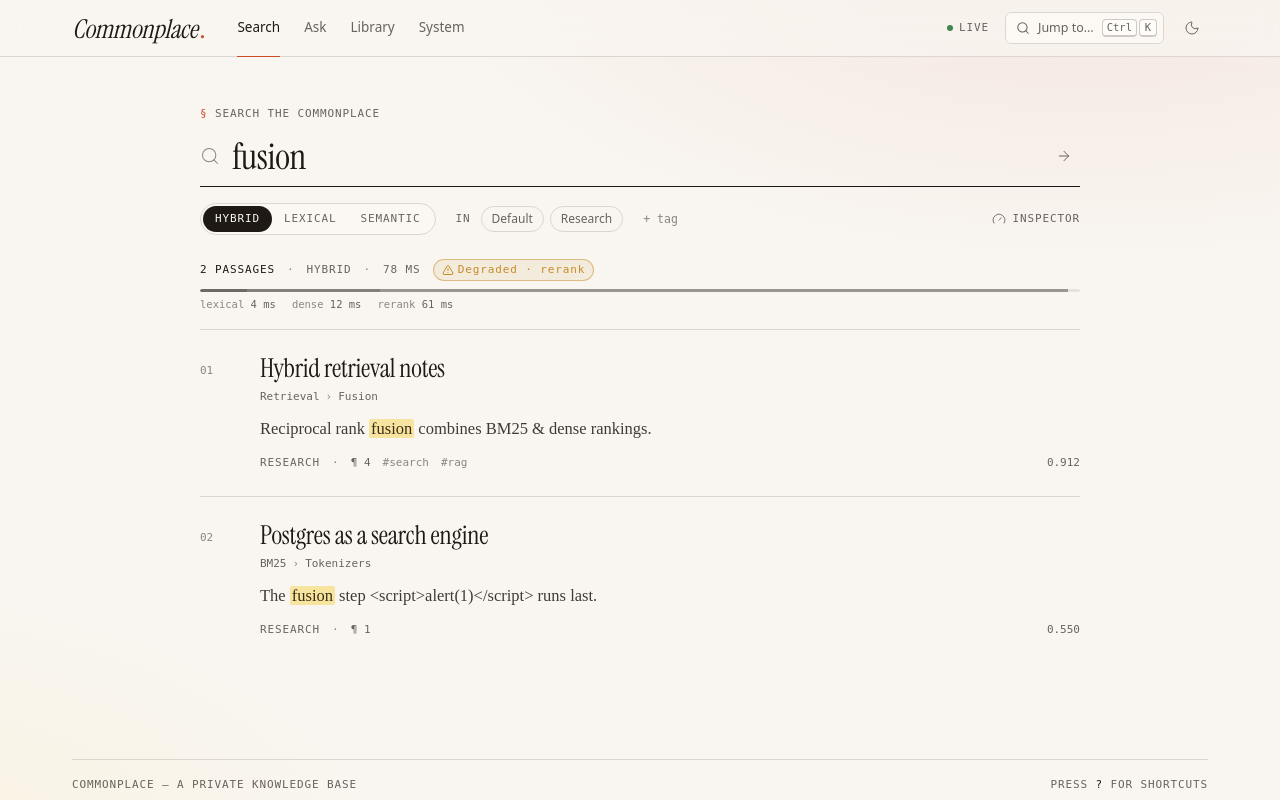
Test: SearchPage › flags degraded stages and toggles the score inspector
Expected: the button "Degraded · rerank" is shown, [433,259,594,281]
Expected: the text "12.400" is not shown
Step 1. Click the button "Inspector" → (1036, 219), box [992,210,1080,228]
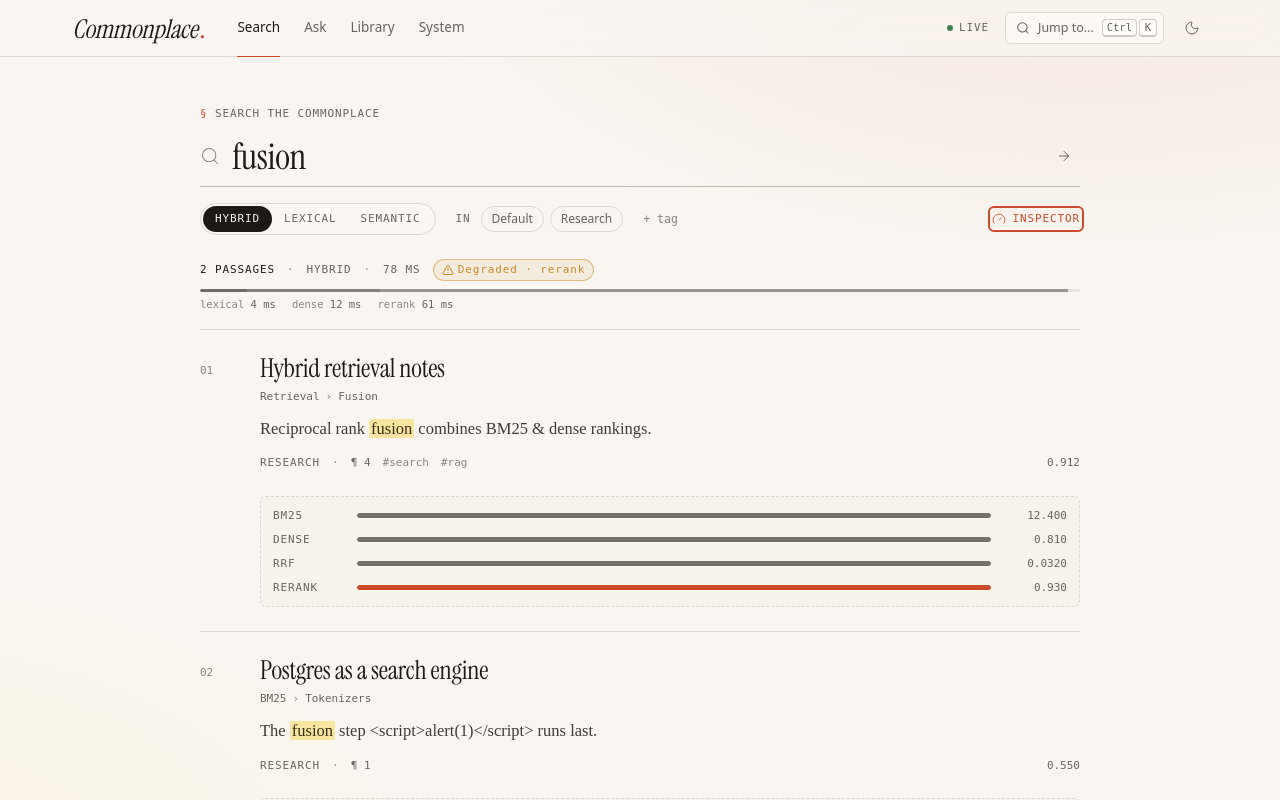
Now the text "12.400" is shown, box [1027,509,1067,522]
Now the text "Rerank" is shown 2 times
